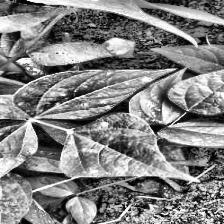Bean Rust: (62, 114, 197, 178), (8, 68, 176, 119), (0, 119, 38, 210)
